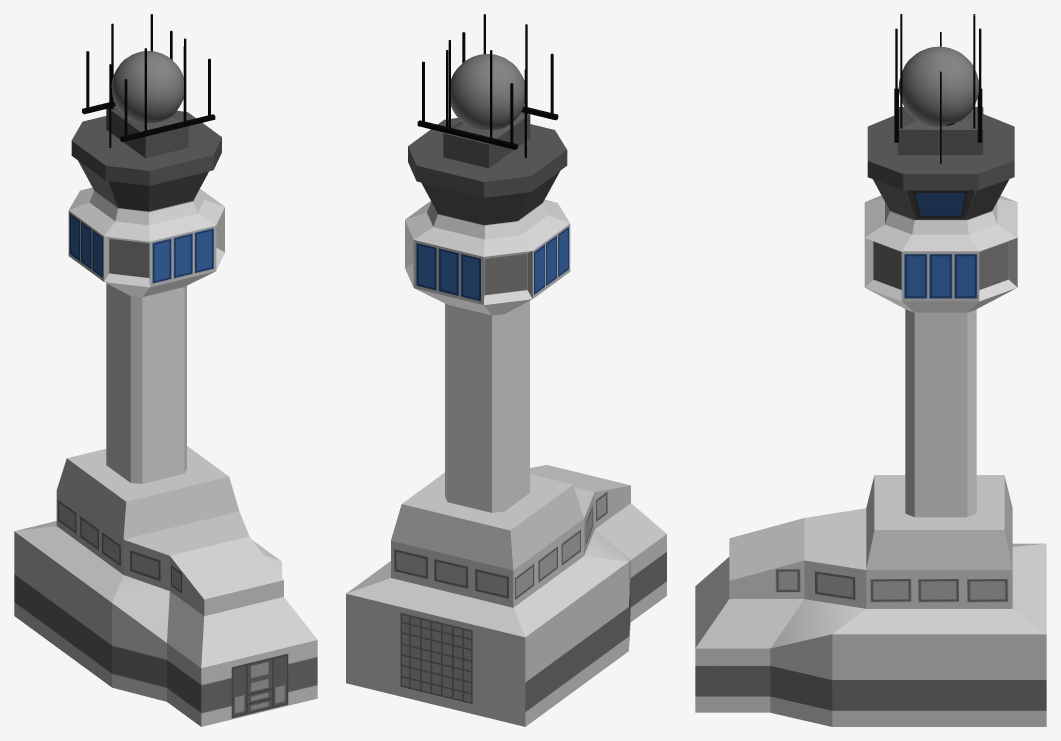
Rendered from ControlTower.fbx.
The picture shows the model from 3 angles, left to right: view 1: azimuth 30°, elevation 25°; view 2: azimuth 150°, elevation 25°; view 3: azimuth 270°, elevation 25°; orthographic projection. The views are drawn at different scales.
Parts seen in each view (by area): view 1: ControlTower_Body; view 2: ControlTower_Body; view 3: ControlTower_Body.
Boxes of the visible parts, x1=… form: ControlTower_Body: x1=14, y1=14, x2=317, y2=726; ControlTower_Body: x1=346, y1=14, x2=666, y2=726; ControlTower_Body: x1=695, y1=14, x2=1046, y2=726.
Size of the model in its own units: 36.6 by 124 by 59.97.
